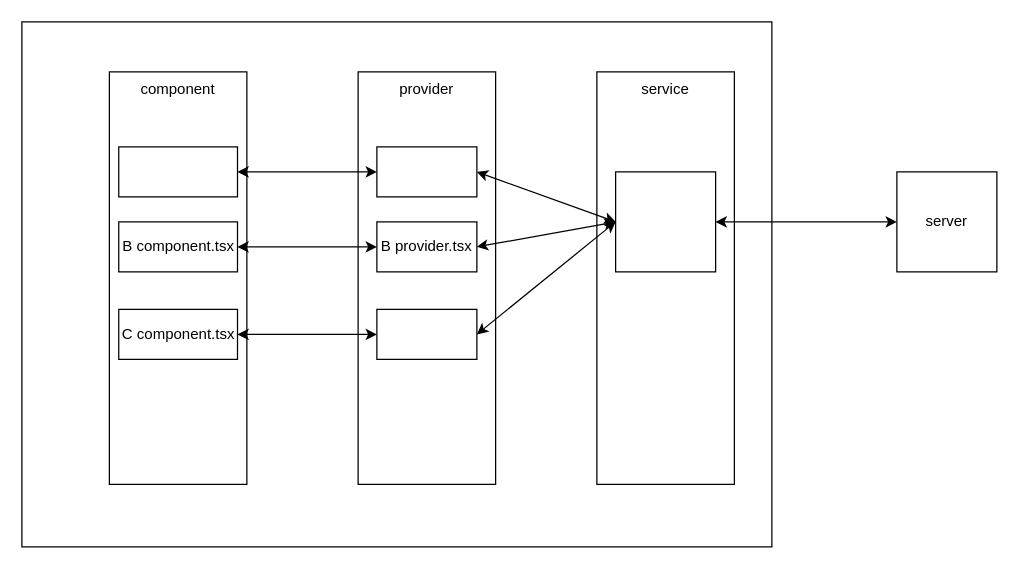
This 1019x569 diagram has some shape labels left out. The shapes that lost their labels are listed below. From the top down, each one's centre as x and y in pixels, then its label:
(x=178, y=171): A component.tsx
(x=426, y=171): A provider.tsx
(x=665, y=221): backend-service.ts
(x=426, y=333): C provider.tsx
